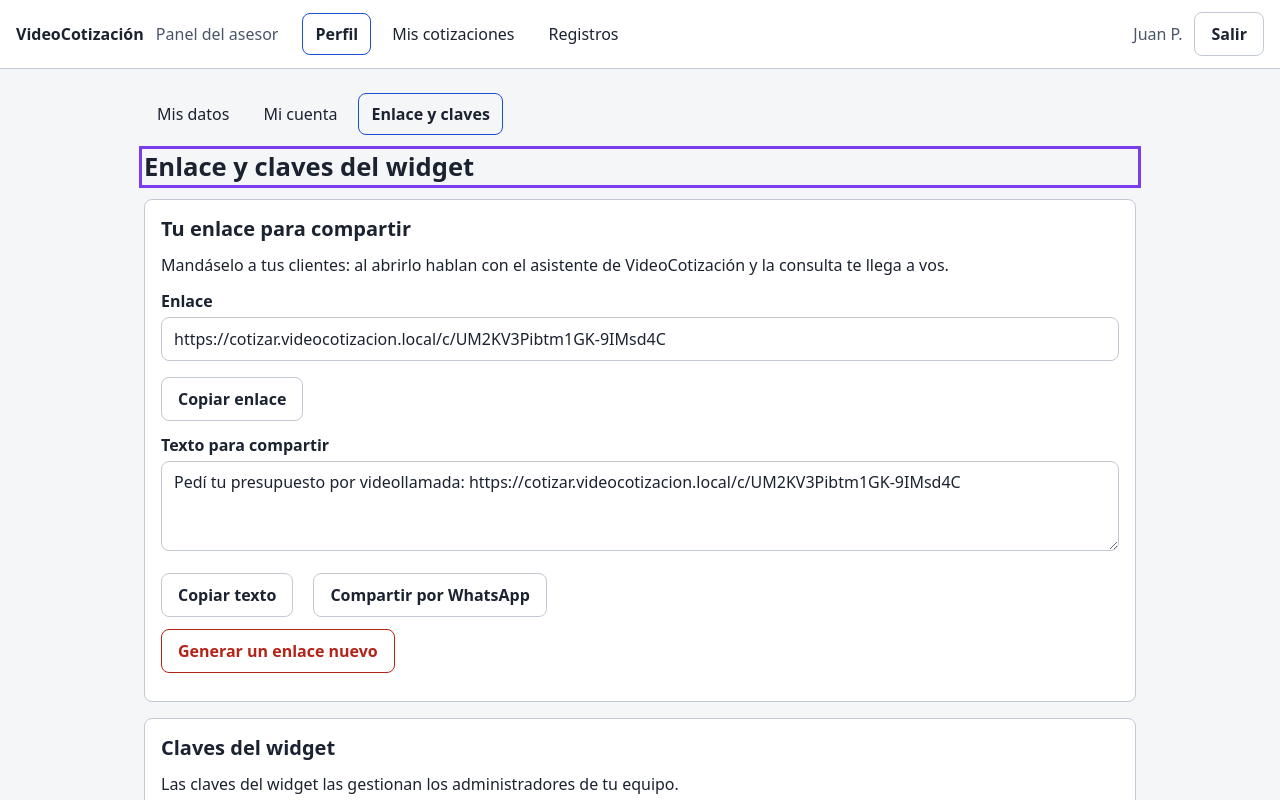
Scenario: Enlace para compartir › si el navegador no deja copiar, pide copiar a mano
This screenshot has width=1280, height=800.
Expected: the field labelled "Enlace" is shown, [161,317,1119,361]
Click the button "Copiar enlace".
click(232, 399)  # box [161,377,303,421]
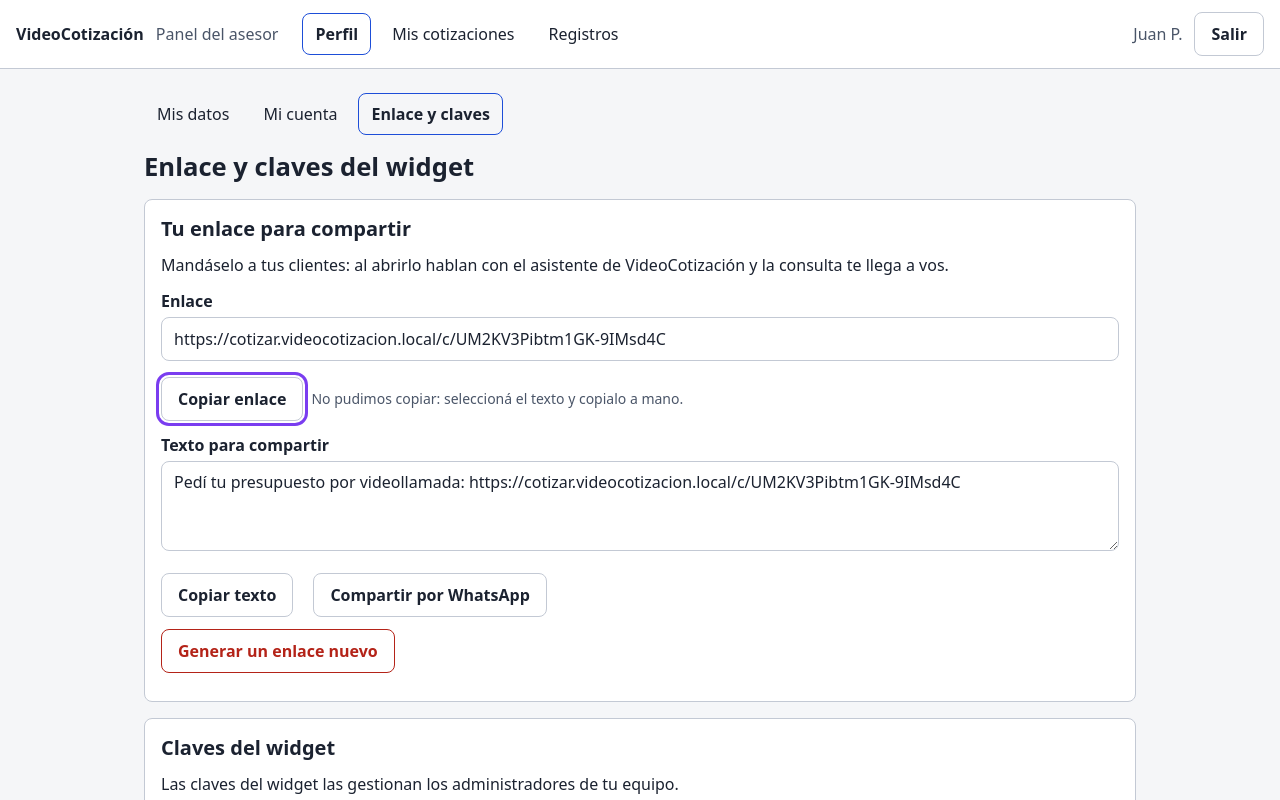
Result: the text "No pudimos copiar: seleccioná el texto y copialo a mano." is shown at [311,388,683,410]
